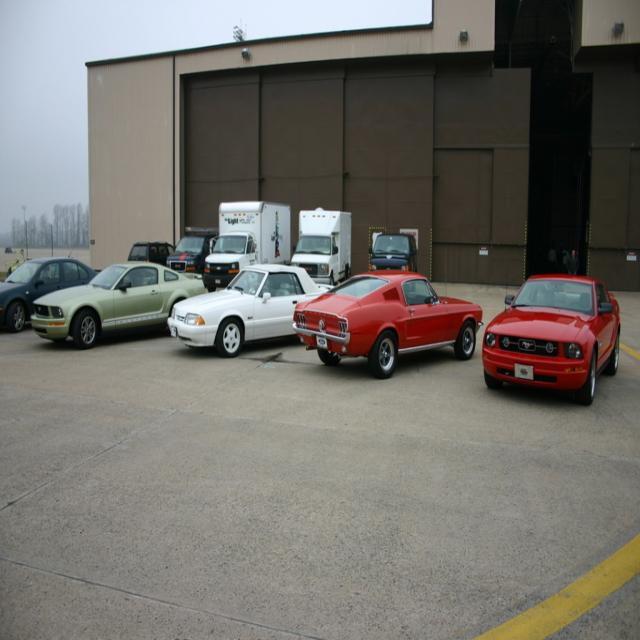car: (291, 254, 493, 375), (482, 280, 622, 398)
